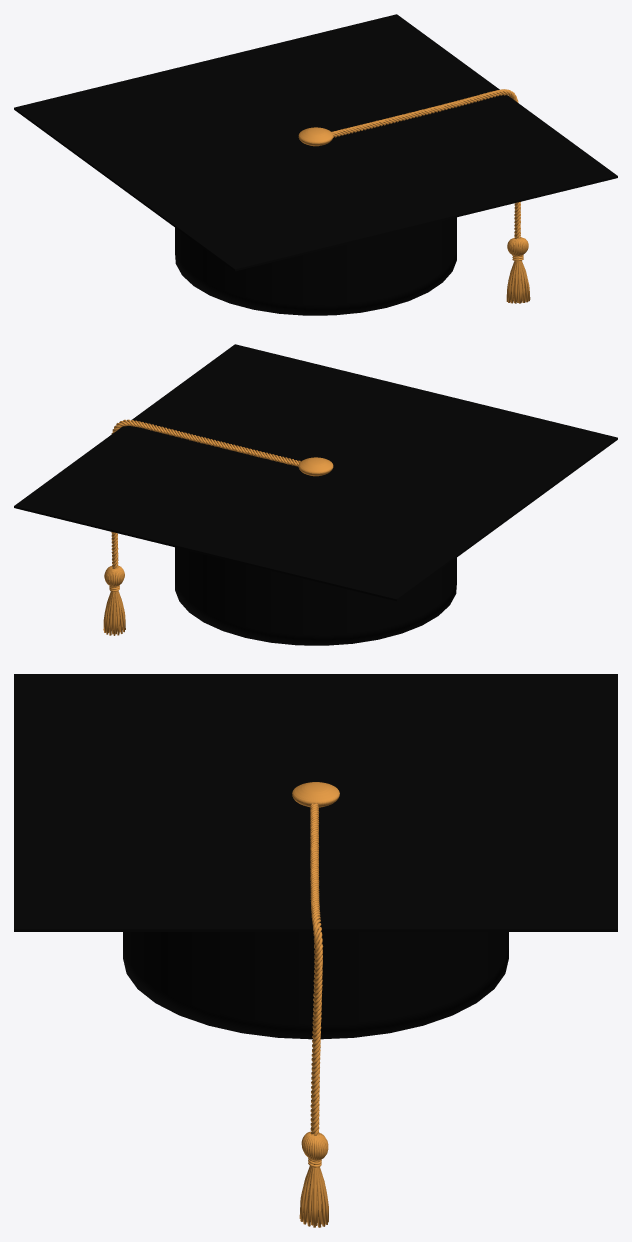
The model's file is Grad Hat.fbx.
The picture shows the model from 3 angles, top to bottom: view 1: azimuth 30°, elevation 25°; view 2: azimuth 150°, elevation 25°; view 3: azimuth 270°, elevation 25°; orthographic projection. The views are drawn at different scales.
Visible parts, largest first — view 1: Plane, Cap Cylinder, Rope, Tassels, Button; view 2: Plane, Cap Cylinder, Rope, Tassels, Button; view 3: Plane, Cap Cylinder, Rope, Tassels, Button.
Boxes of the visible parts, bbox=[...] form: Plane: bbox=[14, 14, 617, 271]; Cap Cylinder: bbox=[175, 217, 456, 315]; Rope: bbox=[332, 89, 520, 238]; Tassels: bbox=[506, 237, 530, 303]; Button: bbox=[298, 127, 333, 146]; Plane: bbox=[14, 344, 617, 601]; Cap Cylinder: bbox=[175, 547, 456, 645]; Rope: bbox=[111, 419, 300, 568]; Tassels: bbox=[103, 565, 125, 635]; Button: bbox=[298, 457, 333, 476]; Plane: bbox=[14, 674, 617, 931]; Cap Cylinder: bbox=[123, 932, 508, 1039]; Rope: bbox=[310, 803, 323, 1135]; Tassels: bbox=[299, 1131, 328, 1227]; Button: bbox=[292, 782, 339, 807].
Bounding box in the file's own units: 172 × 90.16 × 164.
